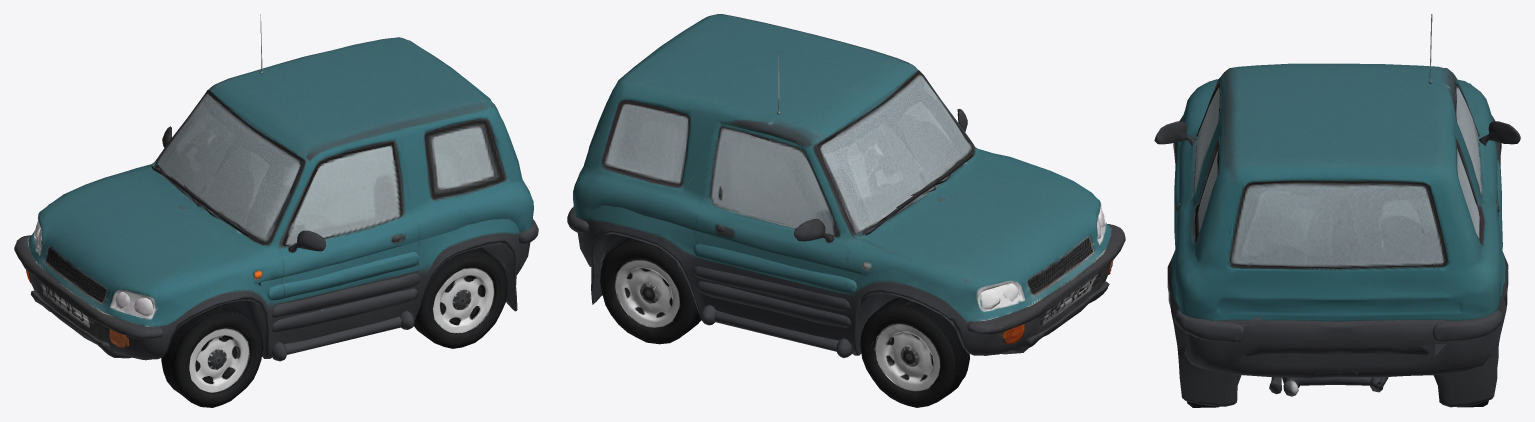
Rendered from RAV4.glb.
3 views of the same model, side by side, from view 1: azimuth 30°, elevation 25°; view 2: azimuth 150°, elevation 25°; view 3: azimuth 270°, elevation 25° (orthographic). The views are drawn at different scales.
Bounding box in the file's own units: 1 × 0.6484 × 0.6484.
Materials: 1 (1 with a texture image).
